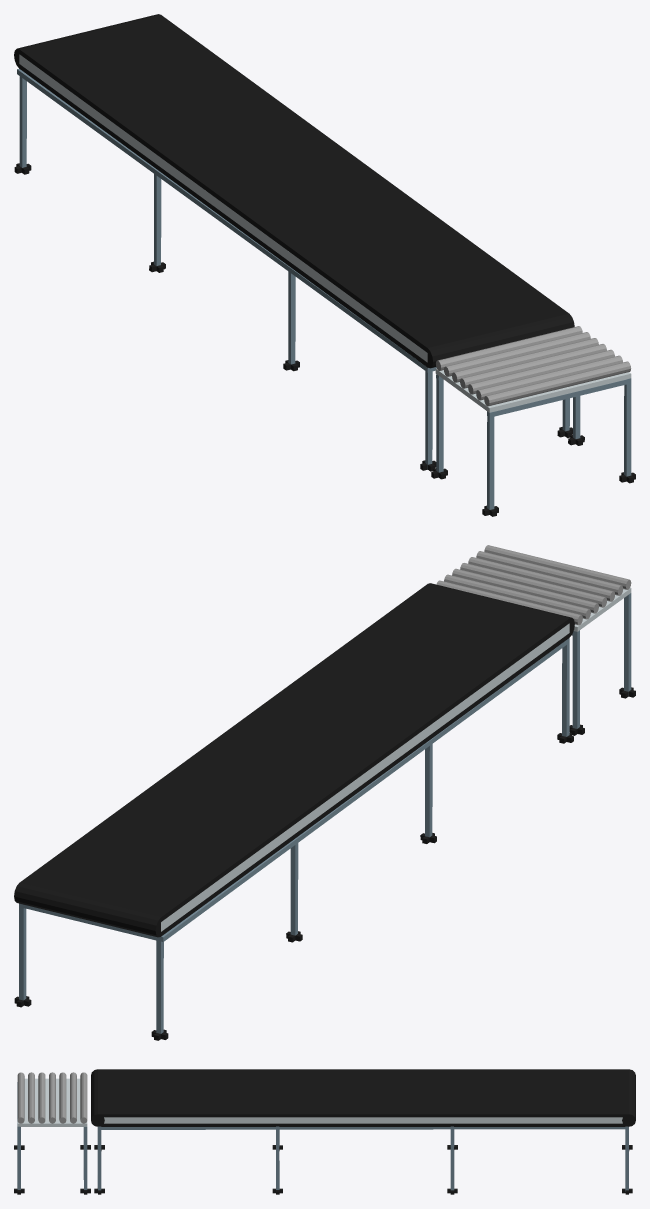
File: Conveyor.fbx
The picture shows the model from 3 angles, top to bottom: view 1: azimuth 30°, elevation 25°; view 2: azimuth 150°, elevation 25°; view 3: azimuth 270°, elevation 25°; orthographic projection. The views are drawn at different scales.
Parts seen in each view (by area): view 1: Conveyor; view 2: Conveyor; view 3: Conveyor.
Boxes of the visible parts, x1,y1,x2,y2 form: Conveyor: (14,14,635,516); Conveyor: (14,545,635,1040); Conveyor: (14,1069,635,1194).
Bounding box in the file's own units: 1.25 × 0.96 × 6.84.
